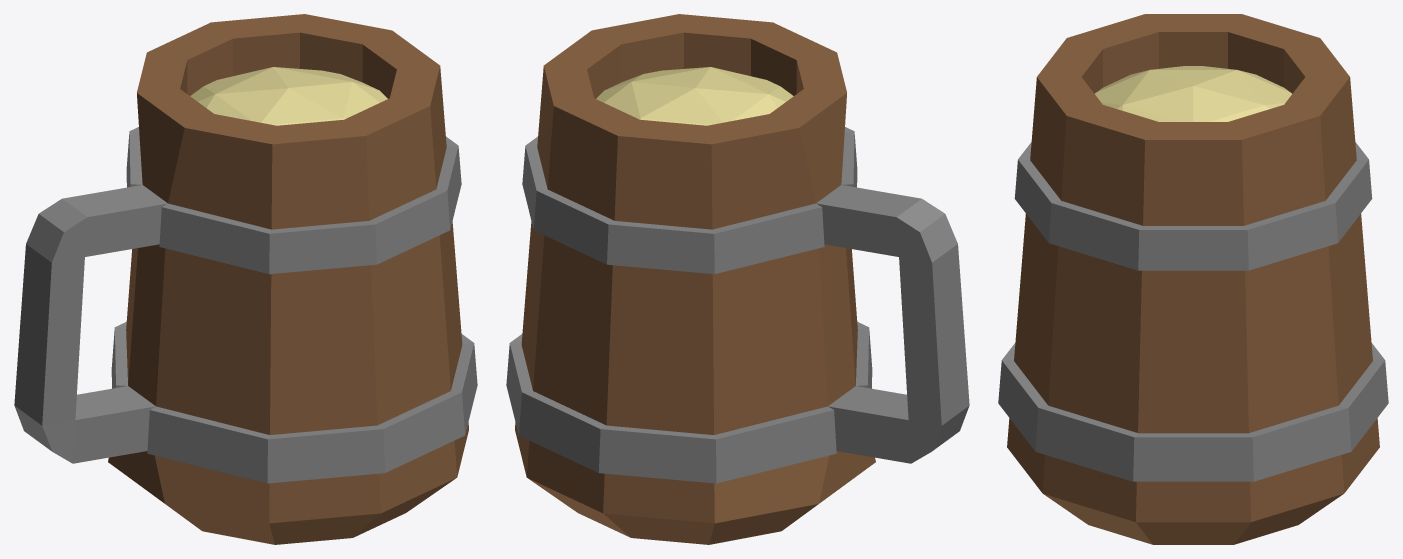
The model's file is copocheio.fbx.
The picture shows the model from 3 angles, left to right: view 1: azimuth 30°, elevation 25°; view 2: azimuth 150°, elevation 25°; view 3: azimuth 270°, elevation 25°; orthographic projection.
Visible parts, largest first — view 1: Cylinder, Icosphere; view 2: Cylinder, Icosphere; view 3: Cylinder, Icosphere.
Part boxes in pixels (x1,y1,x2,y2): Cylinder: [14, 14, 477, 544]; Icosphere: [190, 67, 387, 125]; Cylinder: [506, 14, 969, 544]; Icosphere: [596, 67, 793, 125]; Cylinder: [998, 14, 1388, 544]; Icosphere: [1095, 66, 1291, 121].
Size of the model in its own units: 345 by 324 by 276.
